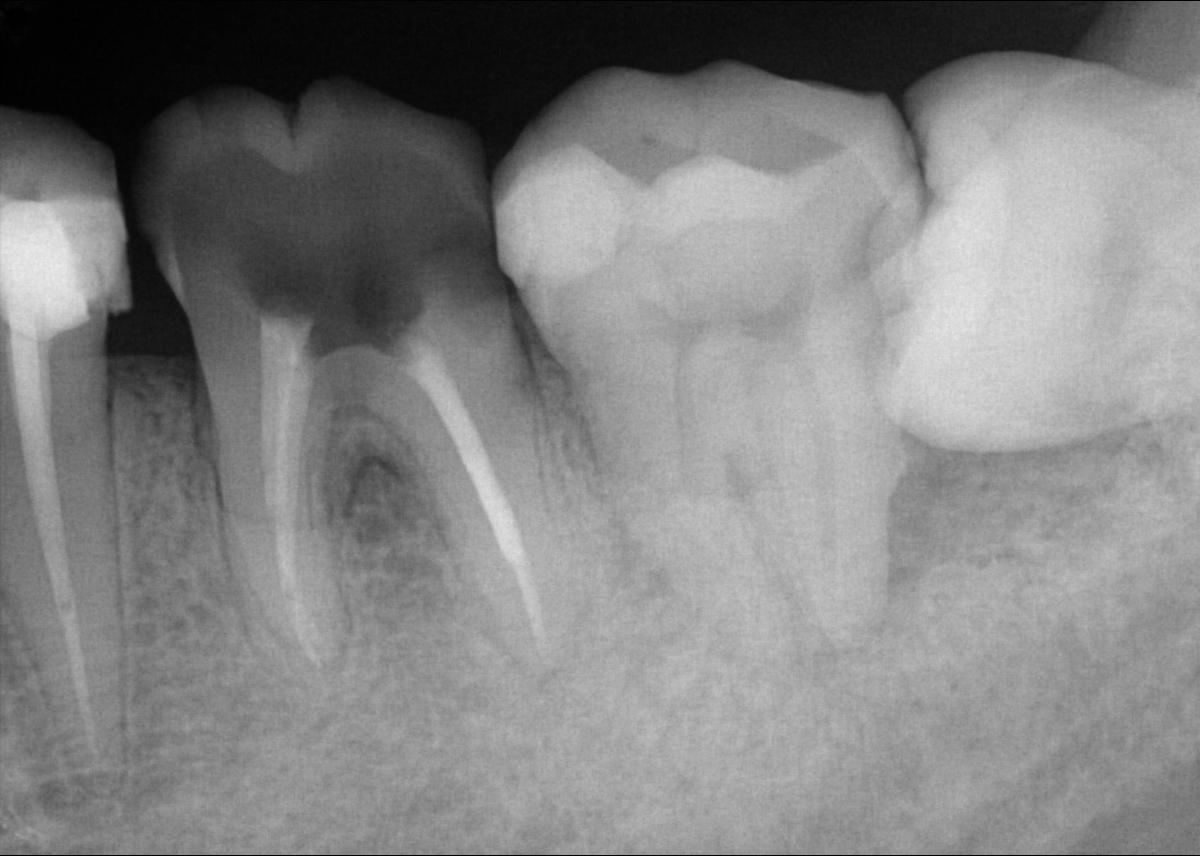Endo-Periodontal Lesion: (340, 454, 430, 544)
